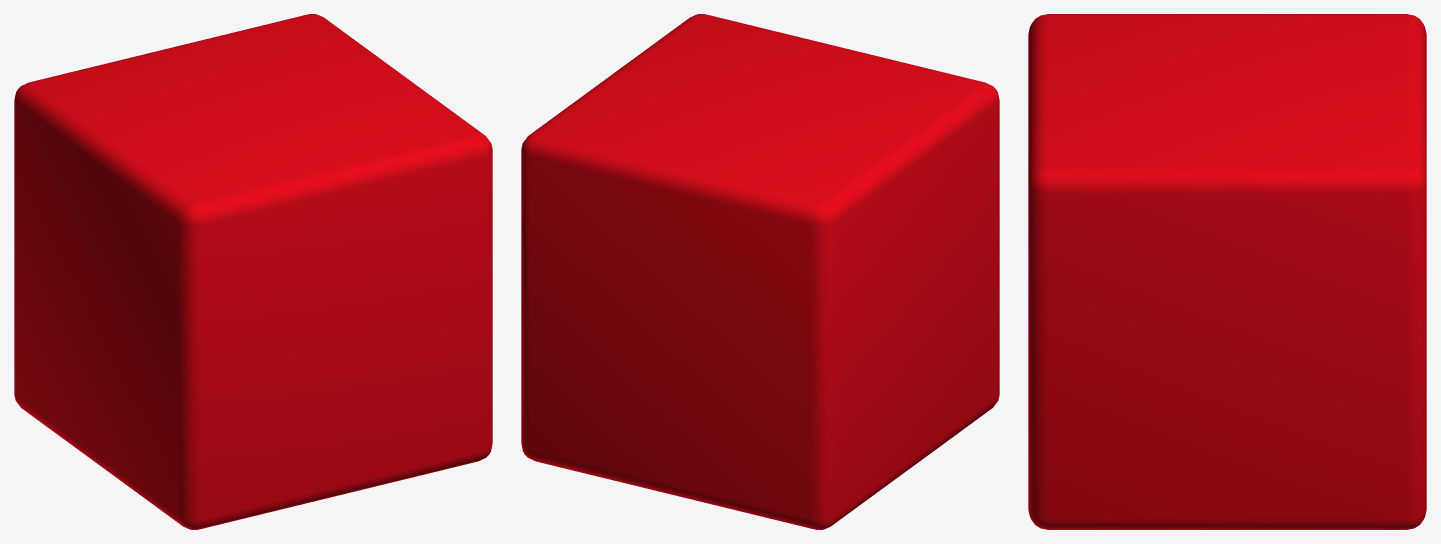
File: küp.fbx
3 views of the same model, side by side, from view 1: azimuth 30°, elevation 25°; view 2: azimuth 150°, elevation 25°; view 3: azimuth 270°, elevation 25° (orthographic). The views are drawn at different scales.
Parts seen in each view (by area): view 1: Cube; view 2: Cube; view 3: Cube.
Part boxes in pixels (left/top/right/bottom): Cube: left=14, top=14, right=492, bottom=529; Cube: left=521, top=14, right=999, bottom=529; Cube: left=1028, top=14, right=1426, bottom=529.
Size of the model in its own units: 2 by 2 by 2.
